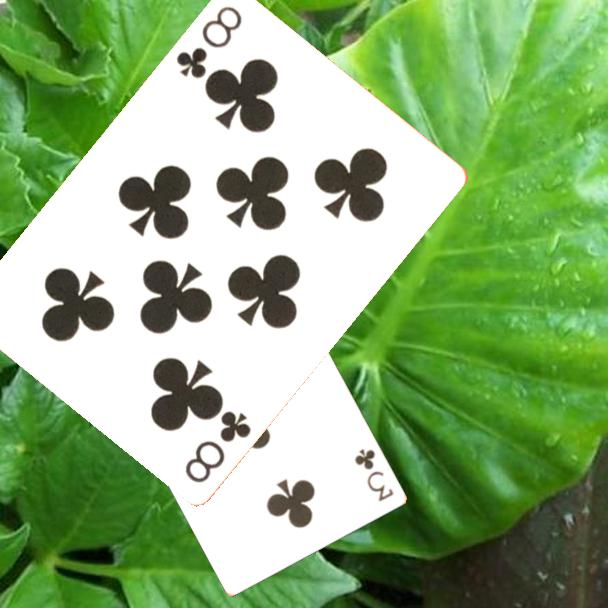c03: (351, 445, 397, 505)
c08: (172, 1, 245, 81), (181, 406, 254, 486)
